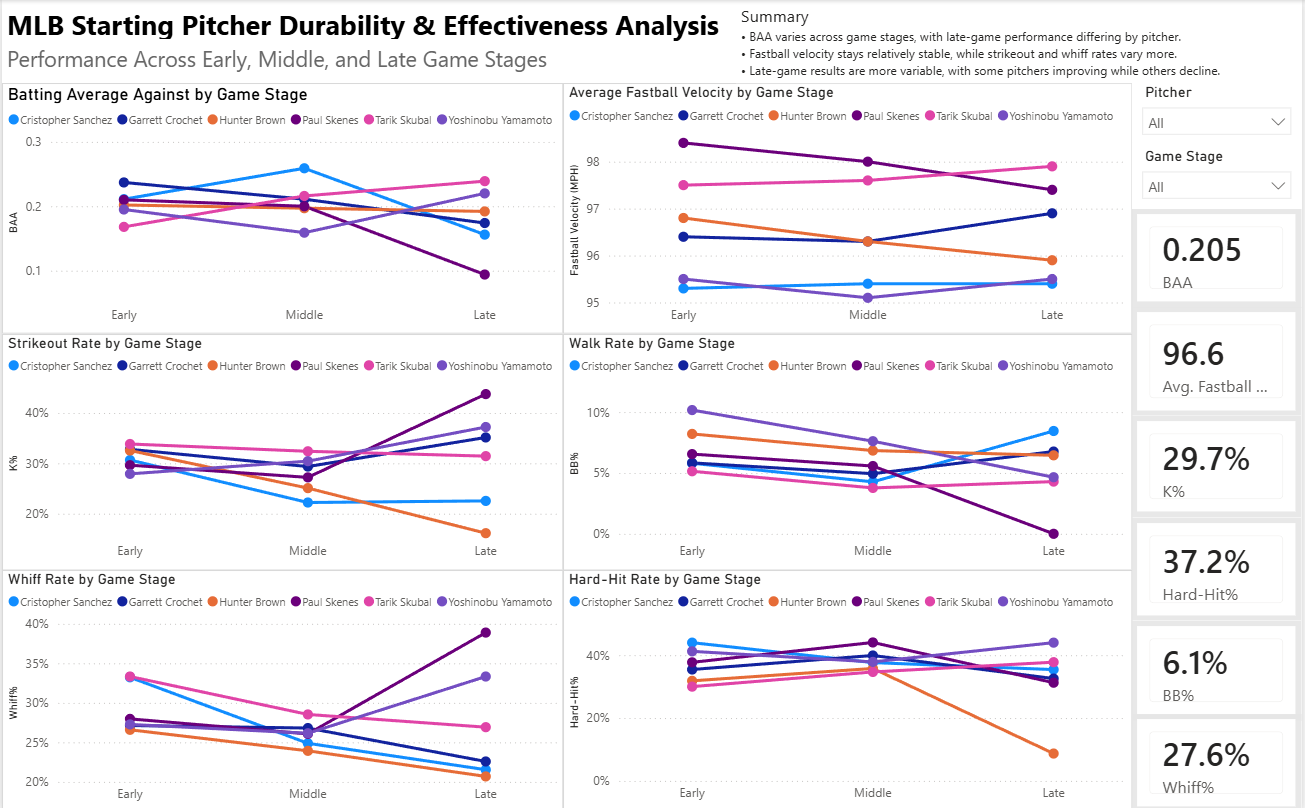

The dashboard page shown, as its layout file describes it:
{"tool":"powerbi","page":{"name":"Page 1","canvas":[1280,800],"ordinal":0},"visuals":[{"type":"lineChart","title":"Batting Average Against by Game Stage","fields":{"Category":["mlb_pitcher_analysis pitcher_stage_summary.game_stage"],"Y":["Avg(mlb_pitcher_analysis pitcher_stage_summary.BAA)"],"Series":["mlb_pitcher_analysis pitcher_stage_summary.player_name"]},"box":[0,81.8,552.7,247.3],"z":0},{"type":"lineChart","title":"Average Fastball Velocity by Game Stage","fields":{"Category":["mlb_pitcher_analysis pitcher_stage_summary.game_stage"],"Series":["mlb_pitcher_analysis pitcher_stage_summary.player_name"],"Y":["Avg(mlb_pitcher_analysis pitcher_stage_summary.avg_primary_fastball_velo)"]},"box":[552.7,81.8,560.6,247.3],"z":1000},{"type":"lineChart","title":"Strikeout Rate by Game Stage","fields":{"Category":["mlb_pitcher_analysis pitcher_stage_summary.game_stage"],"Series":["mlb_pitcher_analysis pitcher_stage_summary.player_name"],"Y":["Avg(mlb_pitcher_analysis pitcher_stage_summary.k_rate)"]},"box":[0,329.1,552.7,232.5],"z":2000},{"type":"lineChart","title":"Walk Rate by Game Stage","fields":{"Category":["mlb_pitcher_analysis pitcher_stage_summary.game_stage"],"Series":["mlb_pitcher_analysis pitcher_stage_summary.player_name"],"Y":["Avg(mlb_pitcher_analysis pitcher_stage_summary.bb_rate)"]},"box":[552.7,329.1,560.6,232.5],"z":3000},{"type":"lineChart","title":"Whiff Rate by Game Stage","fields":{"Category":["mlb_pitcher_analysis pitcher_stage_summary.game_stage"],"Series":["mlb_pitcher_analysis pitcher_stage_summary.player_name"],"Y":["Avg(mlb_pitcher_analysis pitcher_stage_summary.whiff_rate)"]},"box":[0,561.6,552.7,239.4],"z":4000},{"type":"lineChart","title":"Hard-Hit Rate by Game Stage","fields":{"Category":["mlb_pitcher_analysis pitcher_stage_summary.game_stage"],"Series":["mlb_pitcher_analysis pitcher_stage_summary.player_name"],"Y":["Sum(mlb_pitcher_analysis pitcher_stage_summary.hard_hit_rate)"]},"box":[552.7,561.6,560.6,238.4],"z":5000},{"type":"textbox","box":[0,0,714.3,49.3],"z":6000},{"type":"slicer","fields":{"Values":["mlb_pitcher_analysis pitcher_stage_summary.player_name"]},"box":[1113.3,77.8,166.5,63.1],"z":7000},{"type":"slicer","fields":{"Values":["mlb_pitcher_analysis pitcher_stage_summary.game_stage"]},"box":[1113.3,140.9,166.5,65],"z":8000},{"type":"cardVisual","fields":{"Data":["mlb_pitcher_analysis pitcher_stage_summary.Overall BAA"]},"box":[1113.3,205.9,166.5,96.6],"z":9000},{"type":"cardVisual","fields":{"Data":["mlb_pitcher_analysis pitcher_stage_summary.Overall Fastball Velocity"]},"box":[1113.3,302.5,166.5,107.4],"z":10000},{"type":"cardVisual","fields":{"Data":["mlb_pitcher_analysis pitcher_stage_summary.Overall K%"]},"box":[1113.3,409.9,166.5,99.5],"z":11000},{"type":"cardVisual","fields":{"Data":["mlb_pitcher_analysis pitcher_stage_summary.Overall Hard-Hit%"]},"box":[1113.3,510.3,166.5,101.5],"z":12000},{"type":"cardVisual","fields":{"Data":["mlb_pitcher_analysis pitcher_stage_summary.Overall BB%"]},"box":[1113.3,611.8,166.5,97.5],"z":13000},{"type":"cardVisual","fields":{"Data":["mlb_pitcher_analysis pitcher_stage_summary.Overall Whiff%"]},"box":[1113.3,703.4,166.5,96.6],"z":14000},{"type":"textbox","box":[0,38.4,552.7,43.3],"z":15000},{"type":"textbox","box":[723.2,0,556.7,81.8],"z":16000}]}

Visuals, with their boxes in screenshot pixels (x1, y1, x2, y2), scaled from the page's 1280x800 canvas onto the 1305x808 screenshot:
"Batting Average Against by Game Stage" lineChart: left=0, top=83, right=563, bottom=332
"Average Fastball Velocity by Game Stage" lineChart: left=563, top=83, right=1135, bottom=332
"Strikeout Rate by Game Stage" lineChart: left=0, top=332, right=563, bottom=567
"Walk Rate by Game Stage" lineChart: left=563, top=332, right=1135, bottom=567
"Whiff Rate by Game Stage" lineChart: left=0, top=567, right=563, bottom=807
"Hard-Hit Rate by Game Stage" lineChart: left=563, top=567, right=1135, bottom=807
textbox: left=0, top=0, right=728, bottom=50
slicer - mlb_pitcher_analysis pitcher_stage_summary.player_name: left=1135, top=79, right=1304, bottom=142
slicer - mlb_pitcher_analysis pitcher_stage_summary.game_stage: left=1135, top=142, right=1304, bottom=208
cardVisual - mlb_pitcher_analysis pitcher_stage_summary.Overall BAA: left=1135, top=208, right=1304, bottom=306
cardVisual - mlb_pitcher_analysis pitcher_stage_summary.Overall Fastball Velocity: left=1135, top=306, right=1304, bottom=414
cardVisual - mlb_pitcher_analysis pitcher_stage_summary.Overall K%: left=1135, top=414, right=1304, bottom=514
cardVisual - mlb_pitcher_analysis pitcher_stage_summary.Overall Hard-Hit%: left=1135, top=515, right=1304, bottom=618
cardVisual - mlb_pitcher_analysis pitcher_stage_summary.Overall BB%: left=1135, top=618, right=1304, bottom=716
cardVisual - mlb_pitcher_analysis pitcher_stage_summary.Overall Whiff%: left=1135, top=710, right=1304, bottom=807
textbox: left=0, top=39, right=563, bottom=83
textbox: left=737, top=0, right=1304, bottom=83
